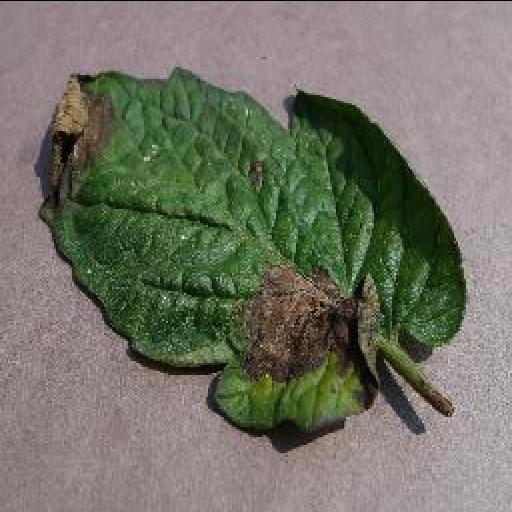disease_tomato: (33, 70, 467, 430)
